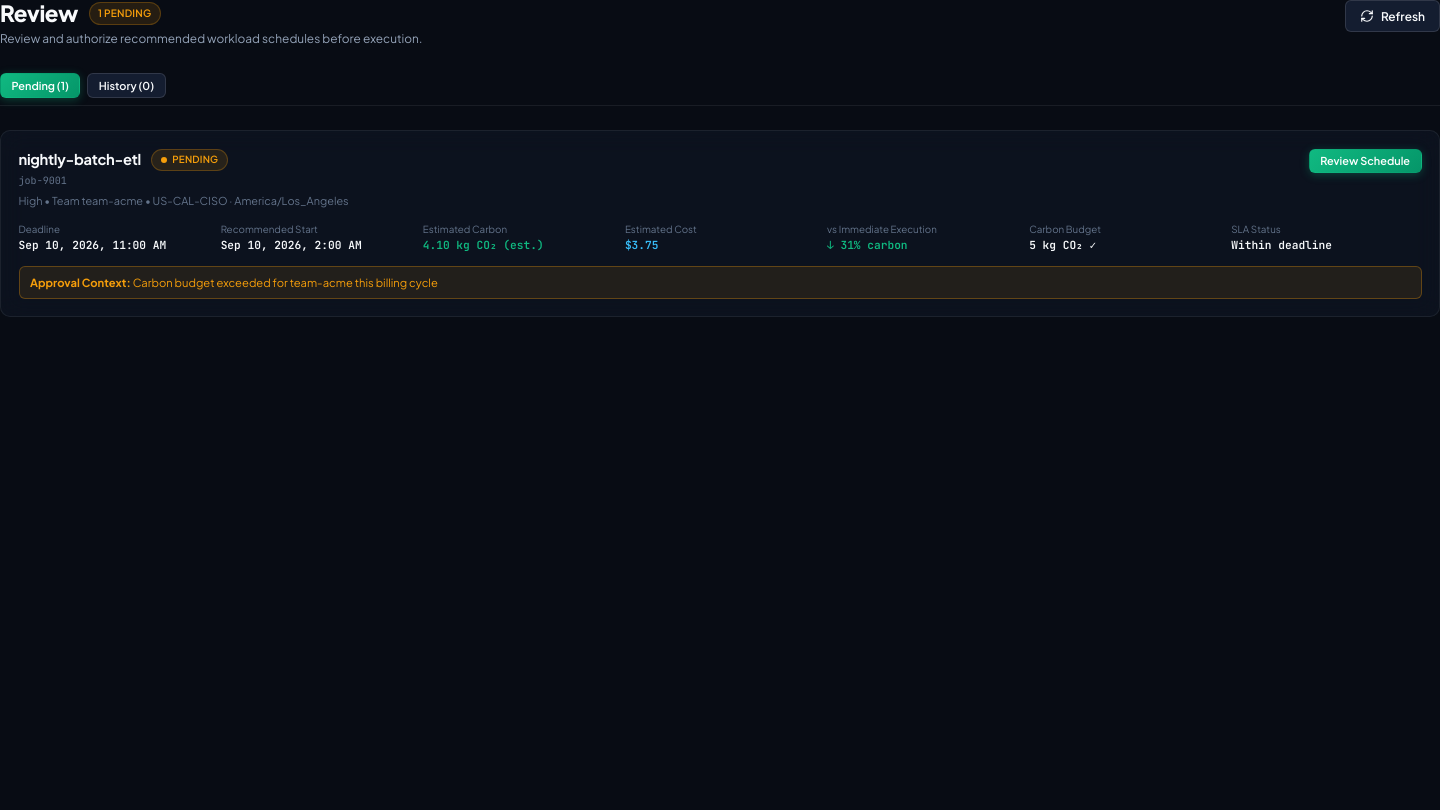
it: ApprovalsPage › review modal › closes on Escape
Click the button "Review Schedule".
click(1365, 161)  # box [1309, 148, 1422, 173]
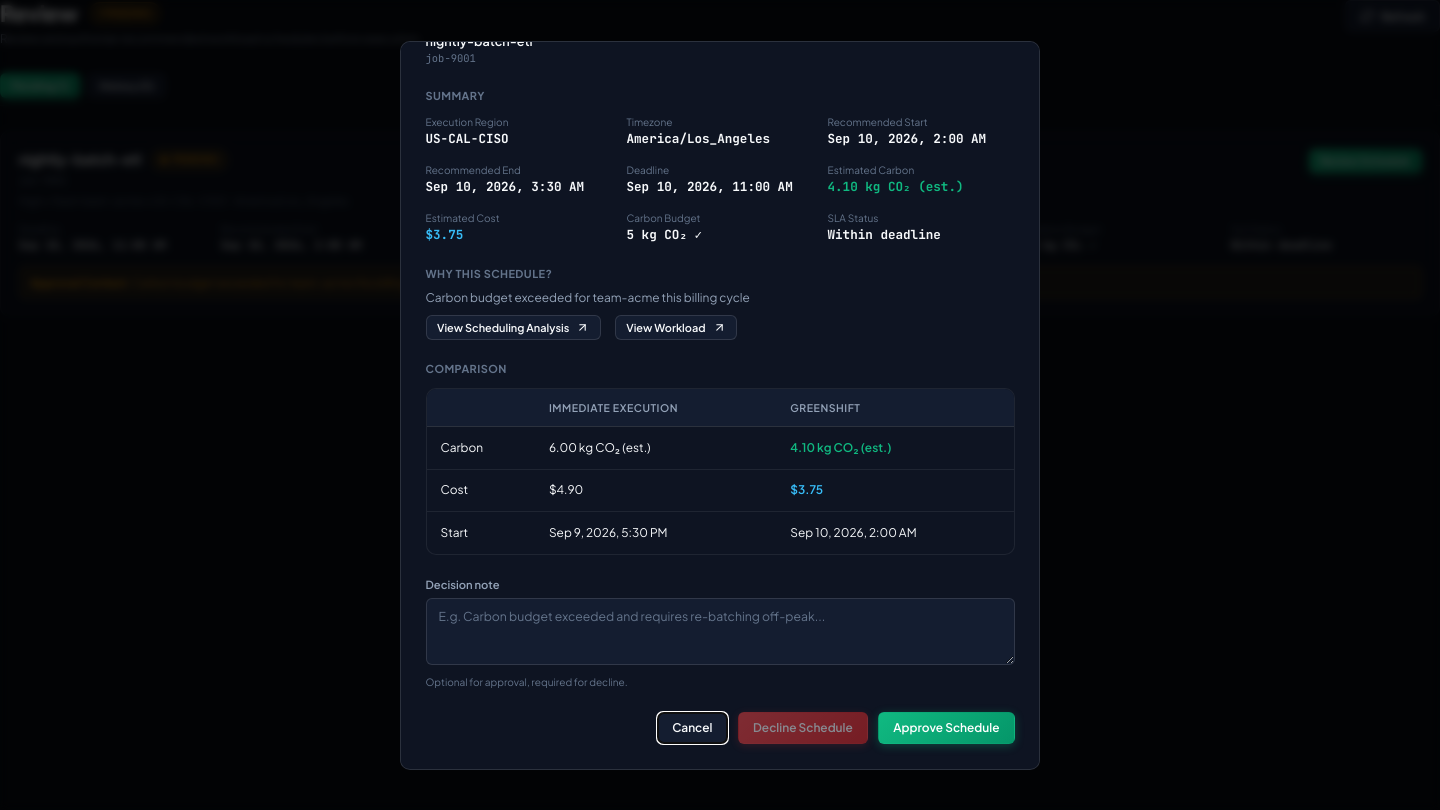
Now the dialog is shown
Press Escape
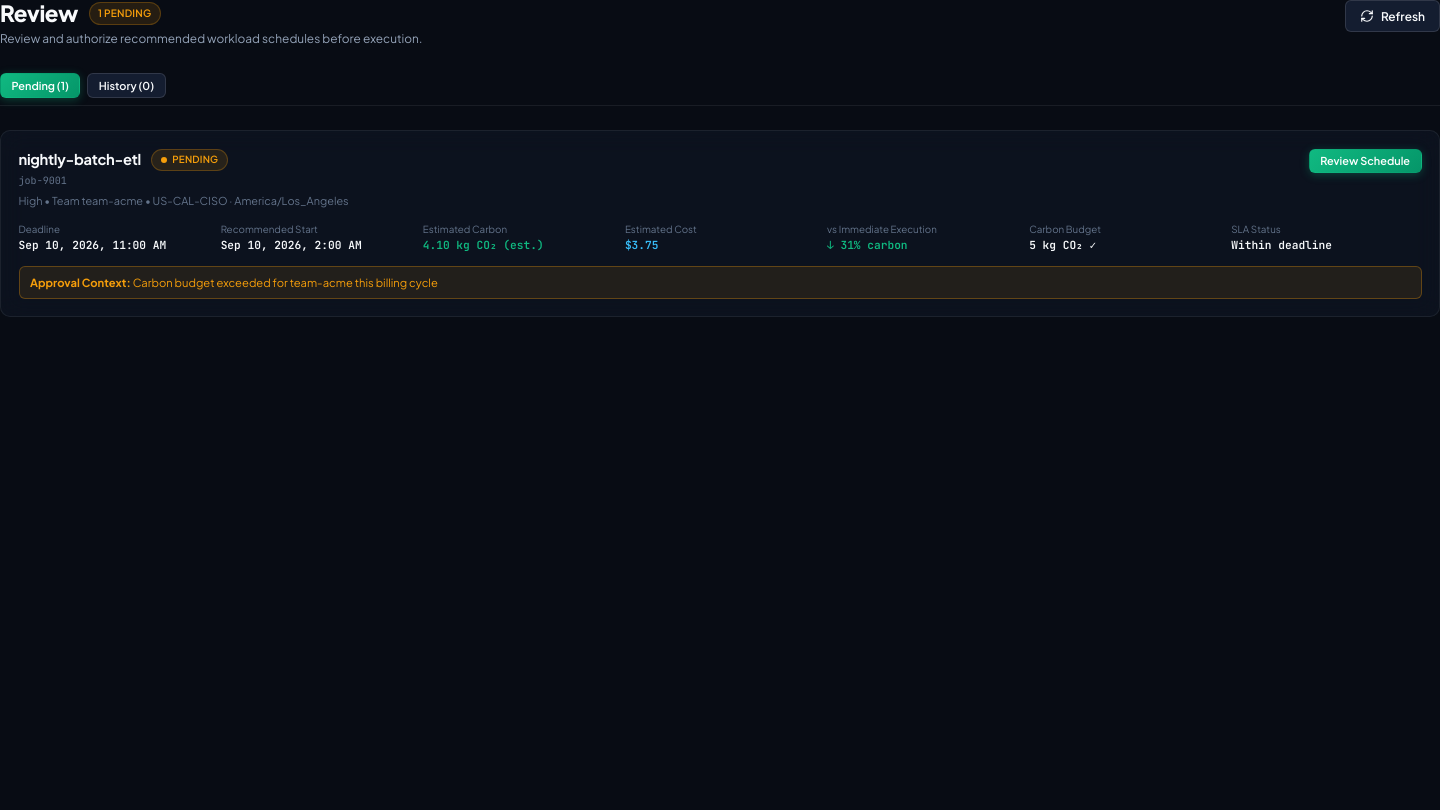
Now the dialog is gone
